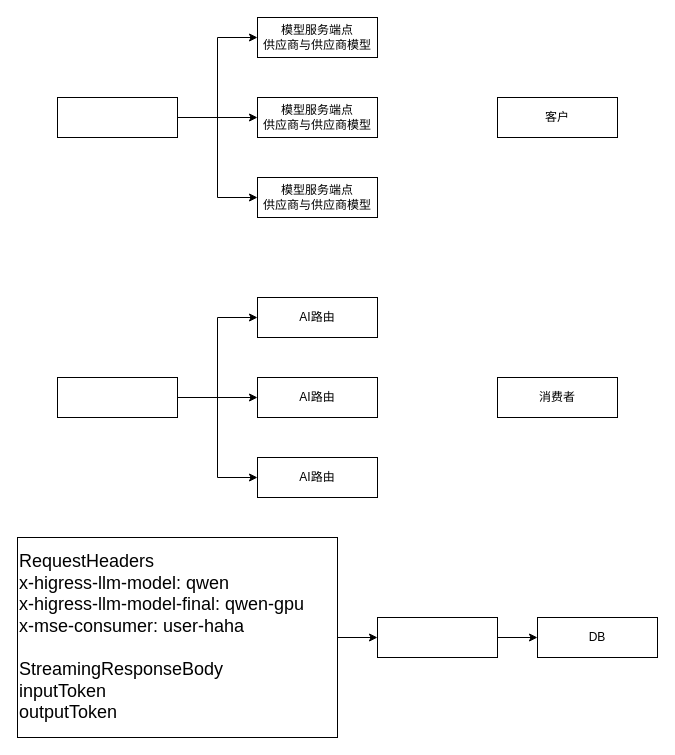
Some shapes in this 675 by 755 pixel diagram are drawn without their labels. Here are the shapes that lost their labels. From the top down, the centre of each, then its label:
At (x=117, y=117): "企业模型".
At (x=117, y=397): "AI服务提供者".
At (x=437, y=637): "redis".
